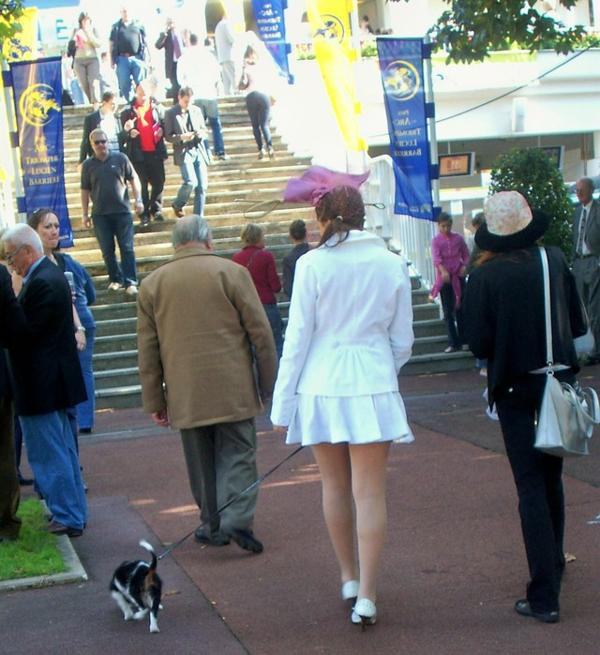person: (272, 187, 413, 620)
